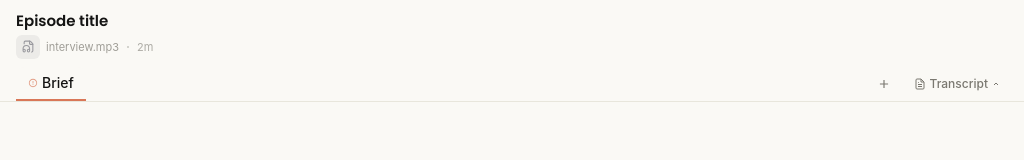
it: EpisodeHeaderBar Source Locator › shows a non-destructive error when a Local Source Locator cannot be opened
Click the button with aria-label "Open Source".
click(68, 47)  # box [16,35,119,59]
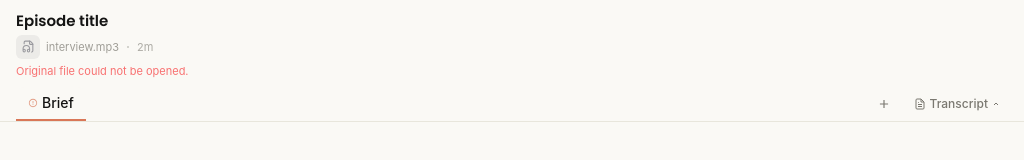
Expected: the message reads "Original file could not be opened.", [16,64,188,78]
